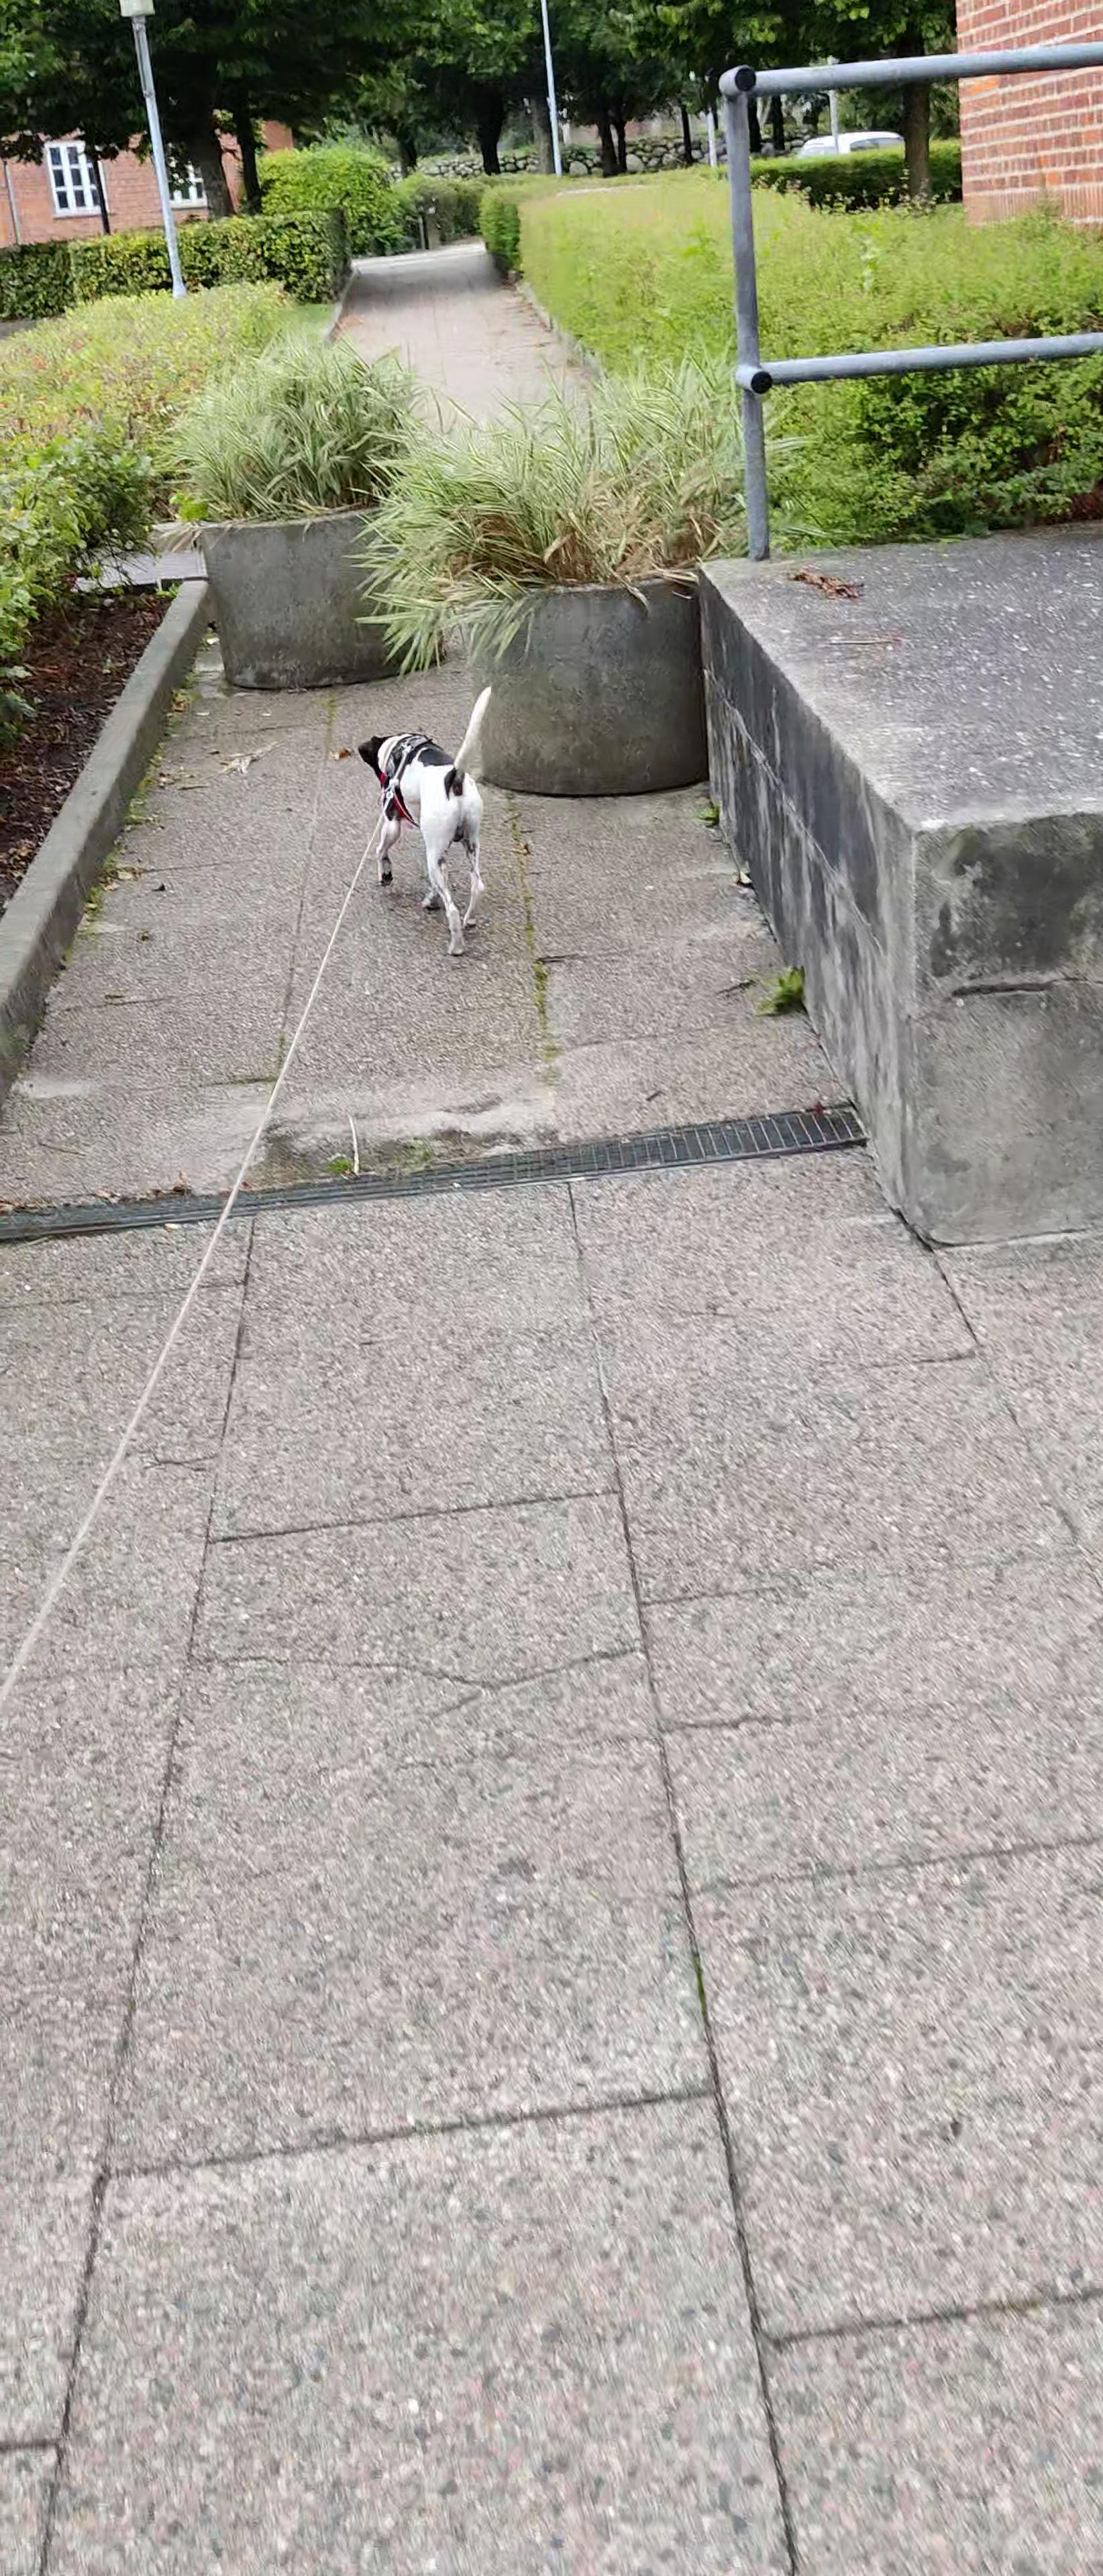Dog: (353, 680, 493, 956)
